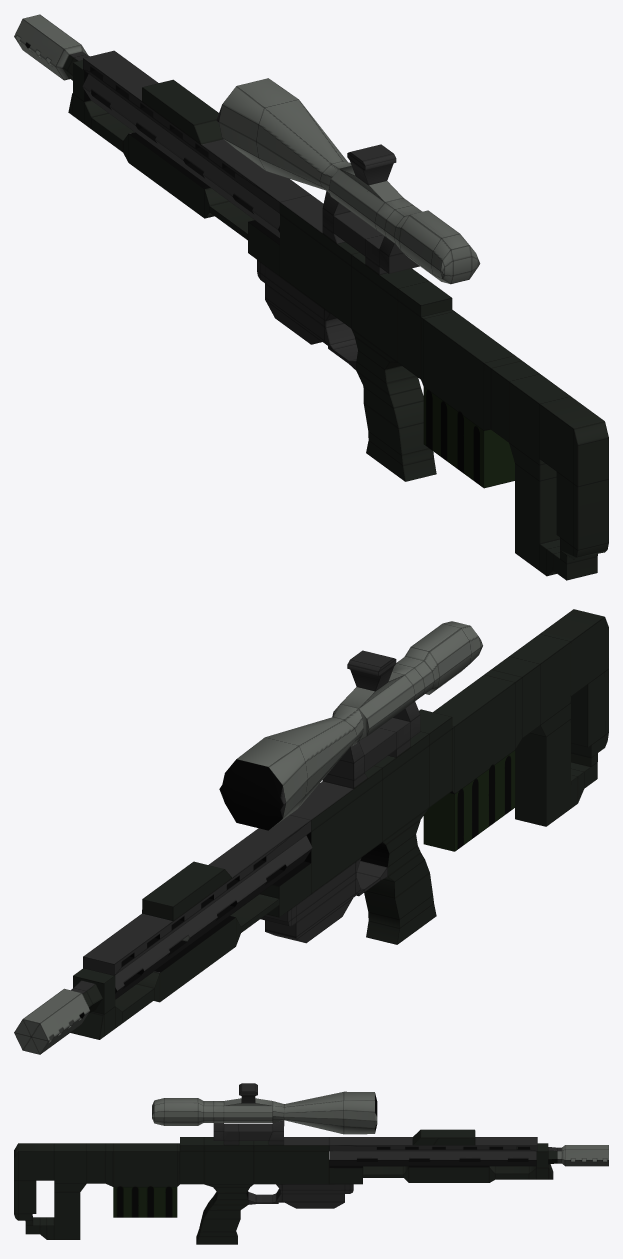
Rendered from Sniper 1.fbx.
3 views of the same model, one above another, from view 1: azimuth 30°, elevation 25°; view 2: azimuth 150°, elevation 25°; view 3: azimuth 270°, elevation 25° (orthographic). The views are drawn at different scales.
Parts seen in each view (by area): view 1: pCylinder8; view 2: pCylinder8; view 3: pCylinder8.
Boxes of the visible parts, x1,y1,x2,y2 form: pCylinder8: (14,14,608,580); pCylinder8: (14,609,608,1054); pCylinder8: (14,1083,608,1244).
Size of the model in its own units: 0.7518 by 3.23 by 11.35.
Materials: 1 (1 with a texture image).
